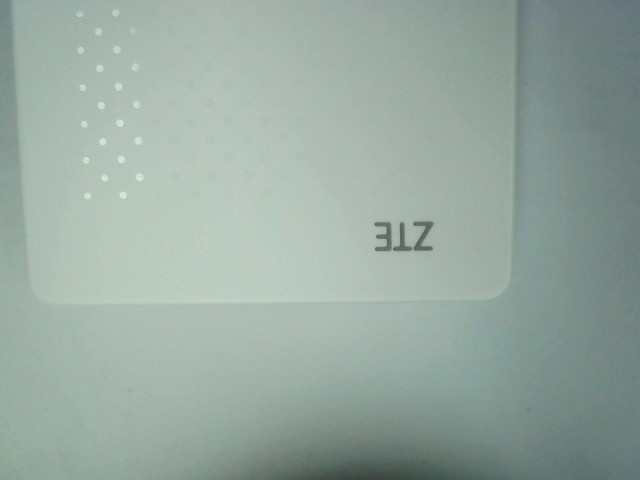AN_ZTE: (370, 216, 443, 254)
